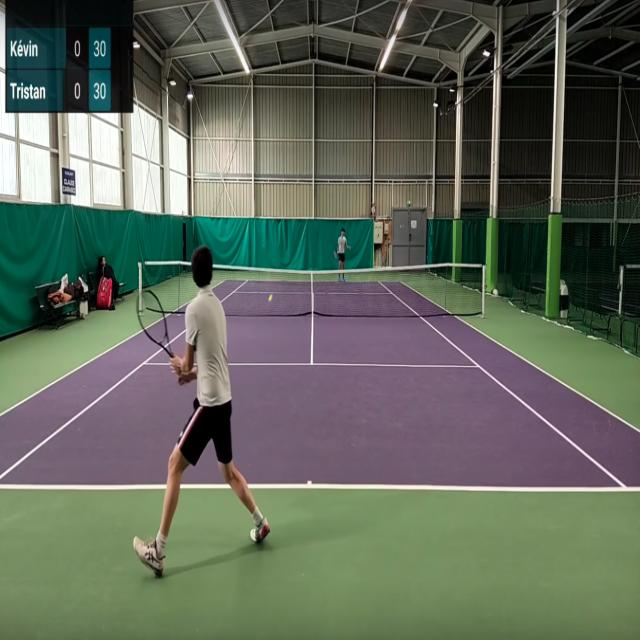ball: (267, 292, 273, 304)
